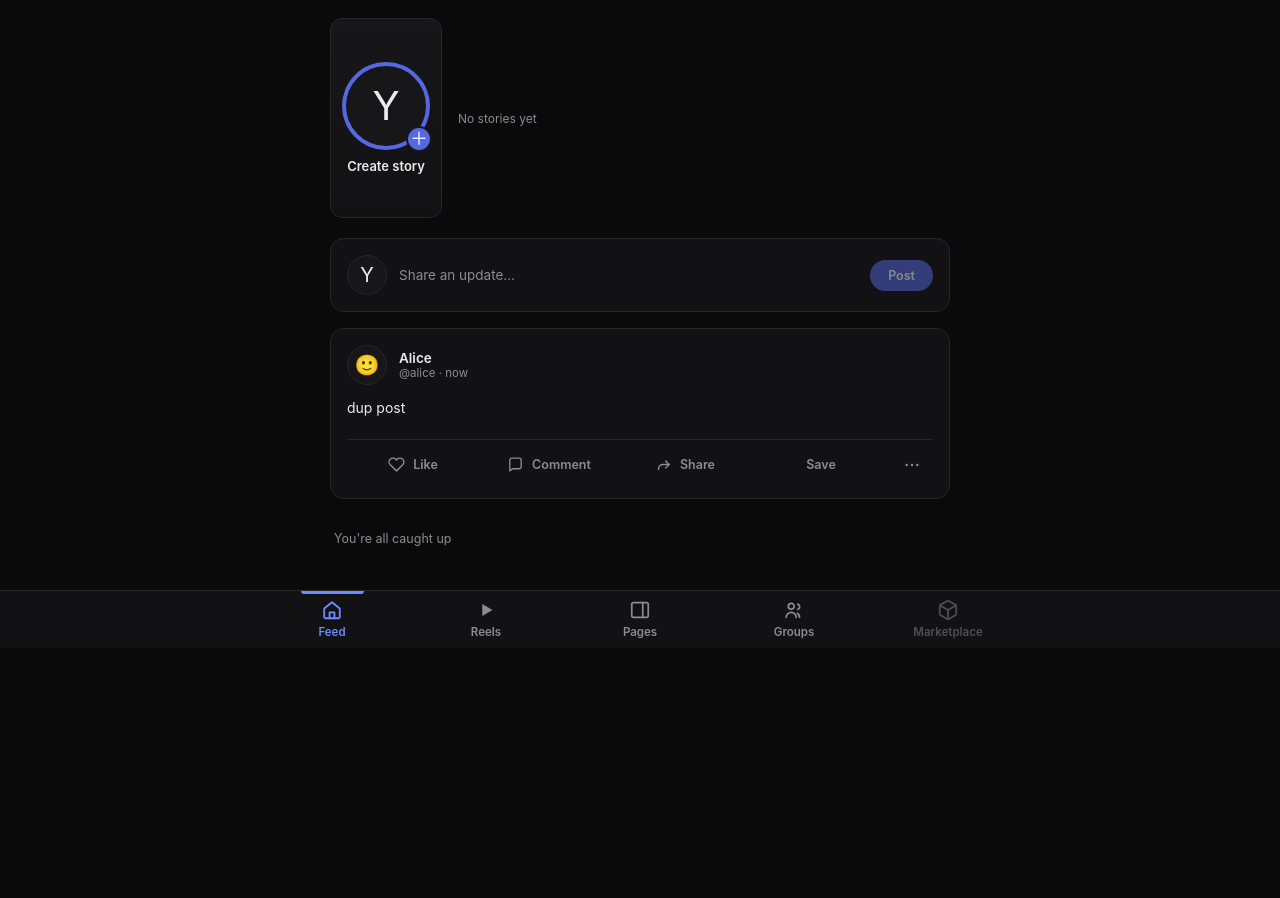
Test: Newly published posts render through the shared card › does not duplicate a post already delivered before the publish resolves
Expected: the text "dup post" is shown, [347,399,405,416]
In the text box named "Post text": [629, 275] box [399,257,858,293], type "dup post"
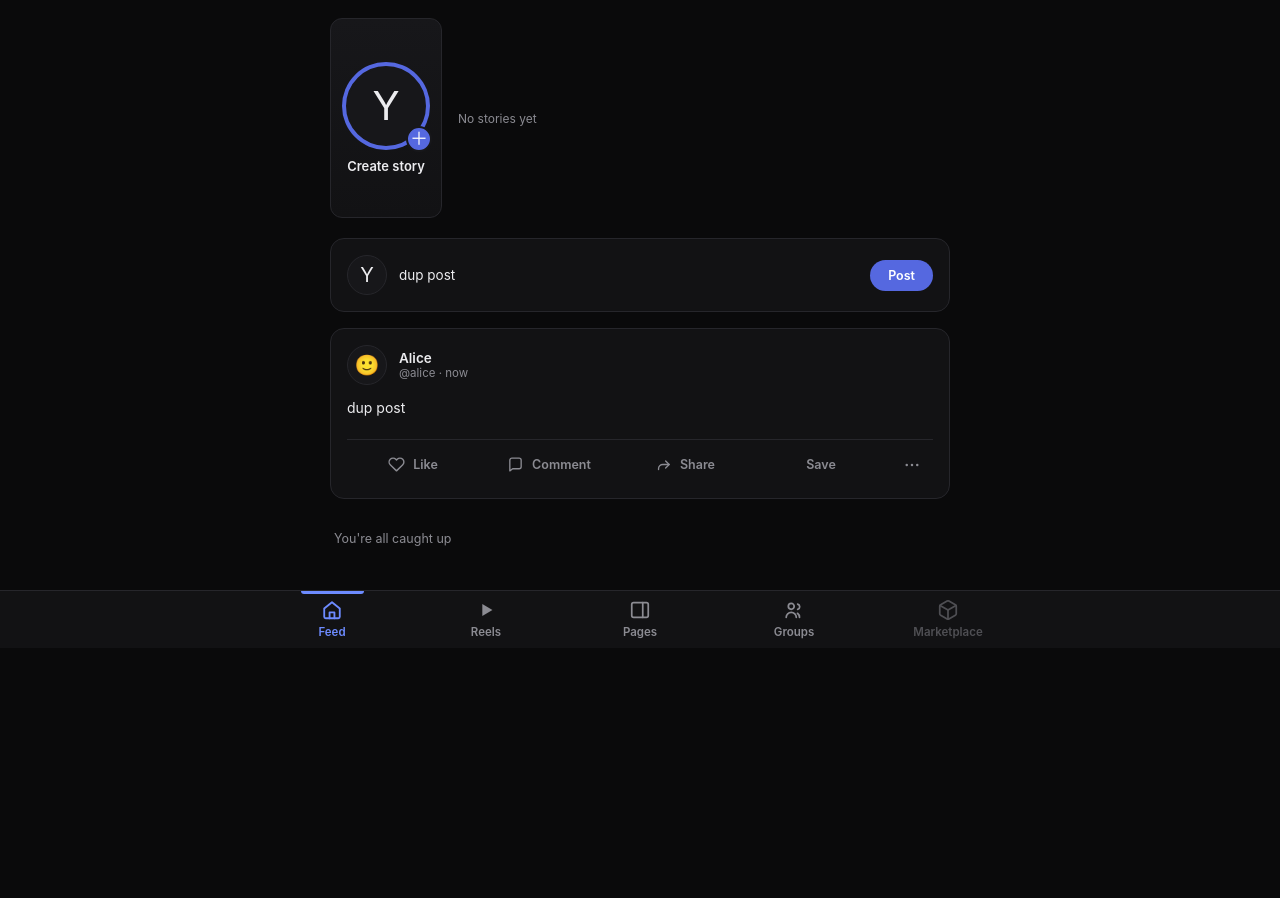
Click the button "Post": [902, 275] box [870,260,933,290]
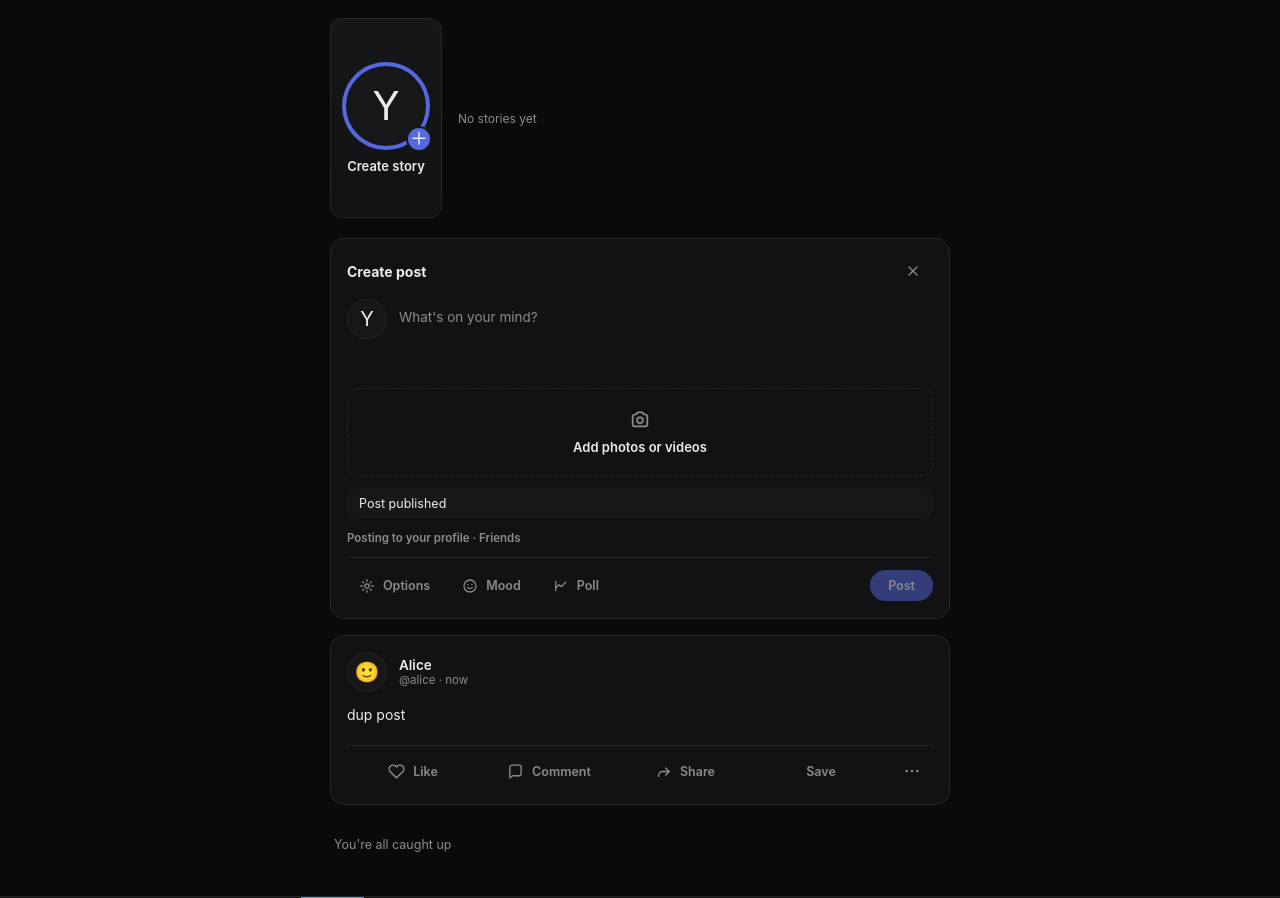
Expected: the text "dup post" is shown once, [347,706,405,723]
Now the text "Post published" is shown, box [347,488,933,519]
